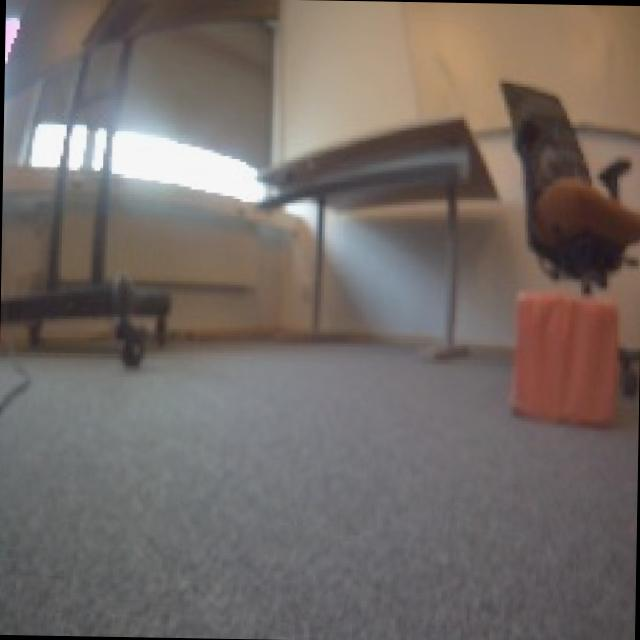target: (504, 283, 621, 428)
